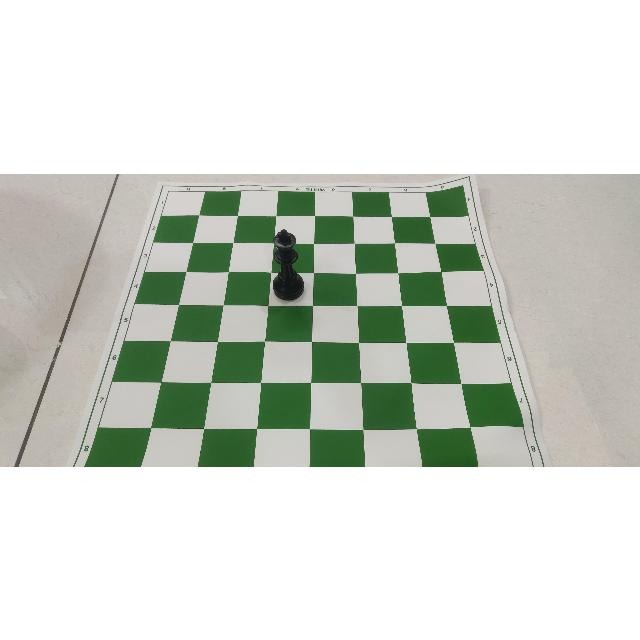black-king: (270, 226, 306, 302)
